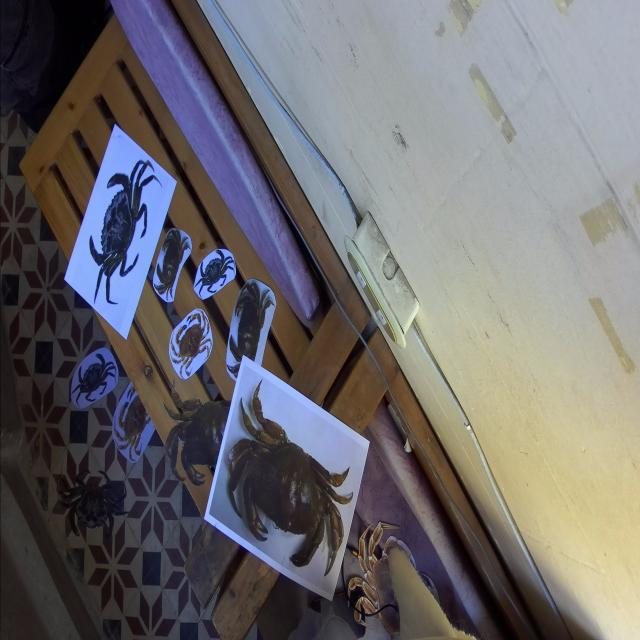European_Green_Crab: (73, 134, 166, 328), (54, 461, 132, 548), (67, 344, 119, 414), (190, 240, 238, 306)
